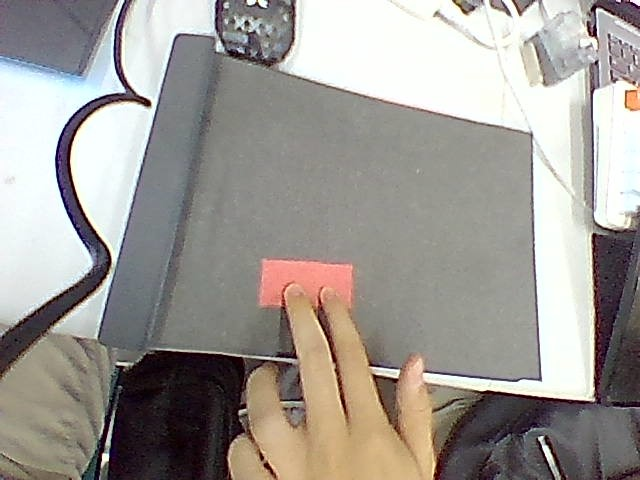card: (259, 259, 352, 306)
